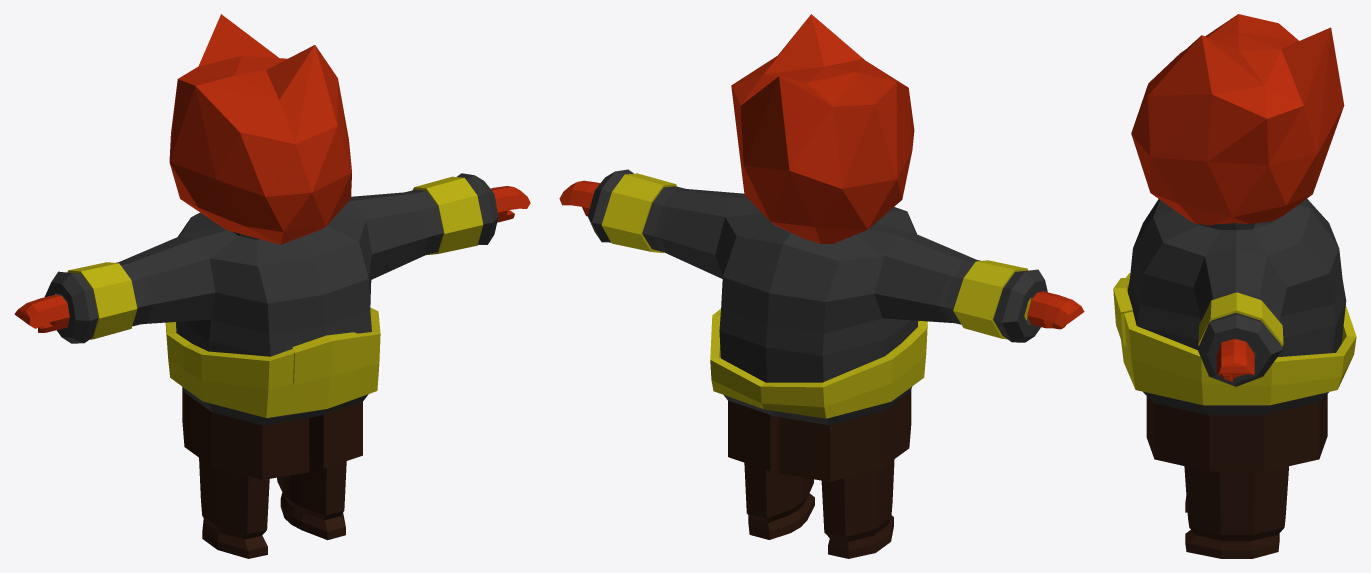
Rendered from lavaman.fbx.
3 views of the same model, side by side, from view 1: azimuth 30°, elevation 25°; view 2: azimuth 150°, elevation 25°; view 3: azimuth 270°, elevation 25° (orthographic). The views are drawn at different scales.
Parts seen in each view (by area): view 1: Personaje, Object, Armadura, Pernas; view 2: Personaje, Object, Pernas, Armadura; view 3: Object, Personaje, Pernas, Armadura.
Part boxes in pixels (x1=…): Personaje: x1=44, y1=173, x2=498, y2=425; Object: x1=14, y1=14, x2=530, y2=332; Armadura: x1=67, y1=176, x2=483, y2=417; Pernas: x1=182, y1=387, x2=362, y2=558; Personaje: x1=587, y1=169, x2=1047, y2=425; Object: x1=559, y1=14, x2=1084, y2=329; Pernas: x1=728, y1=389, x2=911, y2=558; Armadura: x1=601, y1=173, x2=1031, y2=418; Object: x1=1131, y1=14, x2=1344, y2=381; Personaje: x1=1127, y1=199, x2=1346, y2=415; Pernas: x1=1146, y1=394, x2=1327, y2=558; Armadura: x1=1113, y1=273, x2=1356, y2=405.
Bounding box in the file's own units: 57.75 × 54.02 × 23.58.
